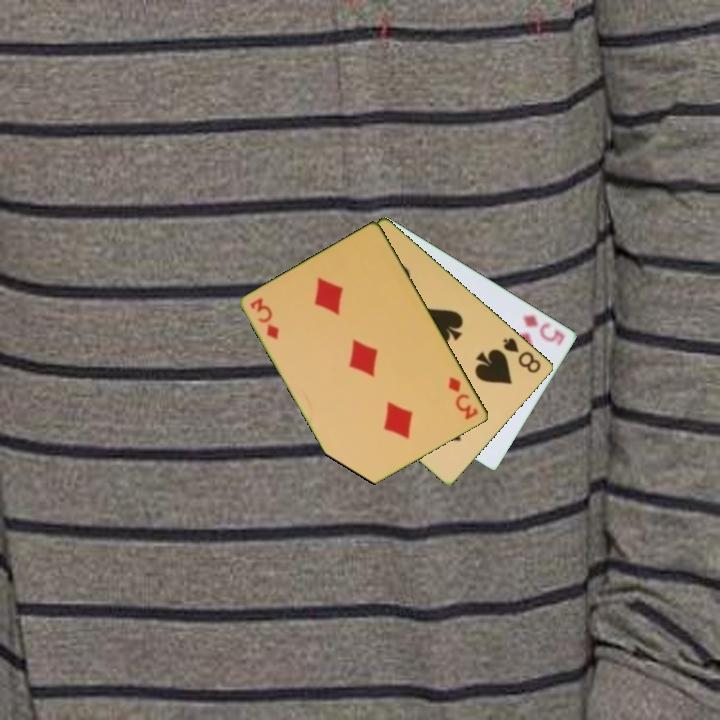3d: (445, 373, 482, 423), (247, 294, 282, 342)
5d: (520, 311, 568, 350)
8s: (499, 334, 544, 376)
